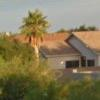Palm tree: (16, 5, 57, 63)
